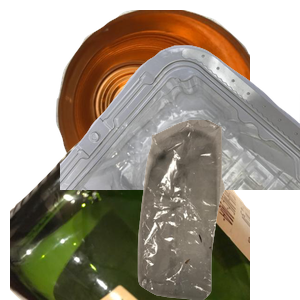glass: (10, 120, 250, 300)
metal: (53, 10, 293, 190)
plastic: (60, 43, 300, 223)
trash: (114, 120, 300, 300)
